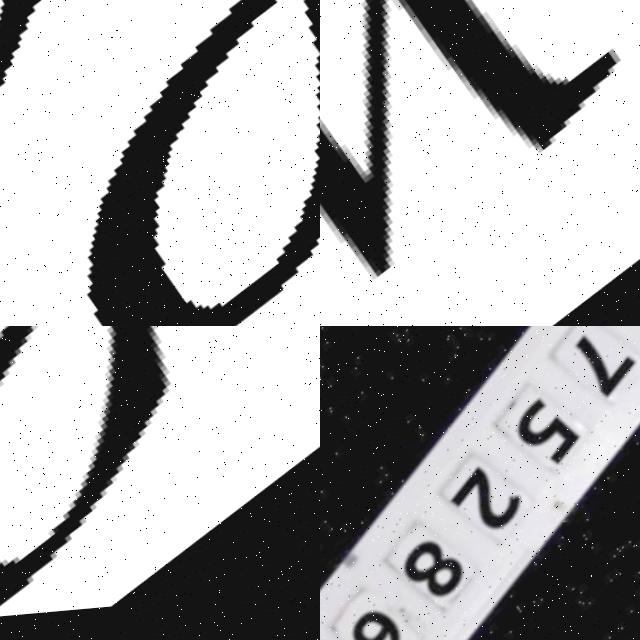2: (432, 440, 555, 571)
5: (491, 369, 616, 505)
6: (323, 572, 446, 640)
7: (541, 326, 640, 435)
8: (379, 505, 503, 639)
A: (0, 326, 320, 640)
W: (320, 0, 640, 326)
